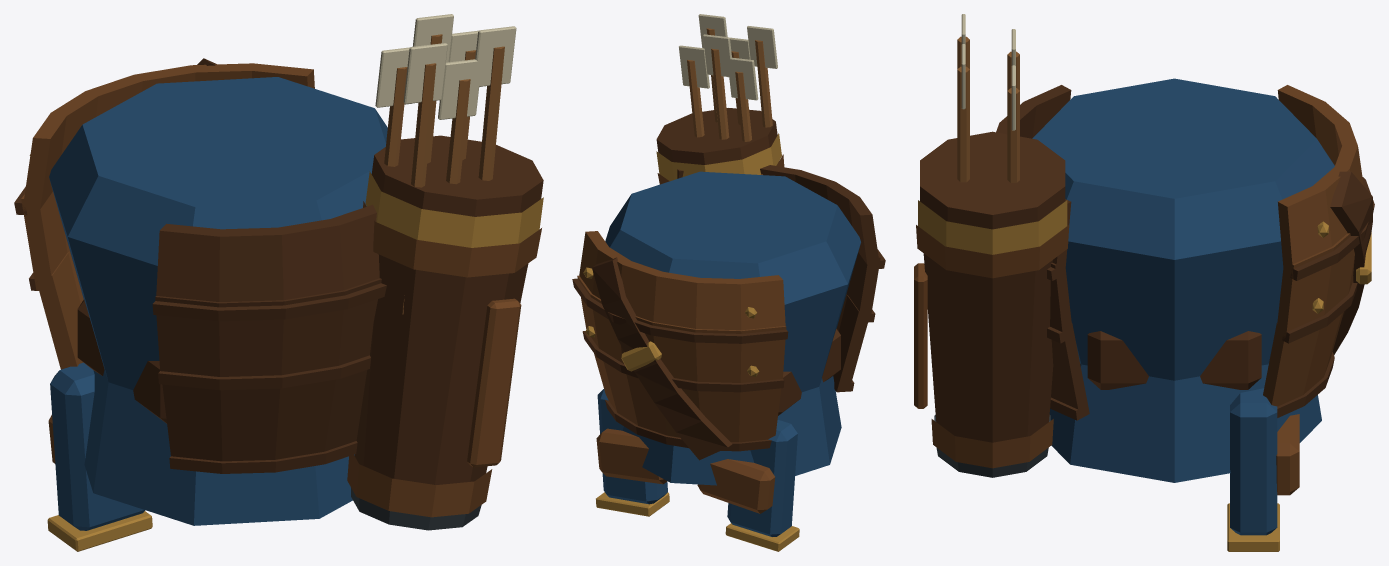
File: Body.glb
The picture shows the model from 3 angles, left to right: view 1: azimuth 30°, elevation 25°; view 2: azimuth 150°, elevation 25°; view 3: azimuth 270°, elevation 25°; orthographic projection. The views are drawn at different scales.
Visible parts, largest first — view 1: Sculpture; view 2: Sculpture; view 3: Sculpture.
Part boxes in pixels (<box>): Sculpture: <box>14,14,543,551</box>; Sculpture: <box>572,14,885,551</box>; Sculpture: <box>914,14,1374,551</box>.
Bounding box in the file's own units: 0.7082 × 1.06 × 0.874.
